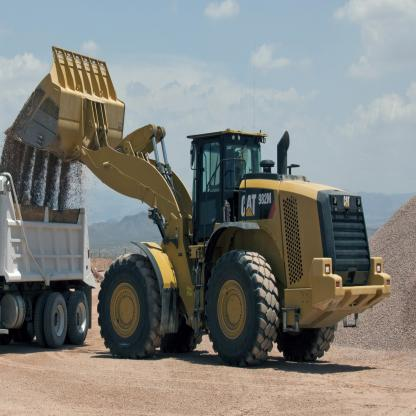bull_dozer/loader/grader: (8, 41, 396, 383)
